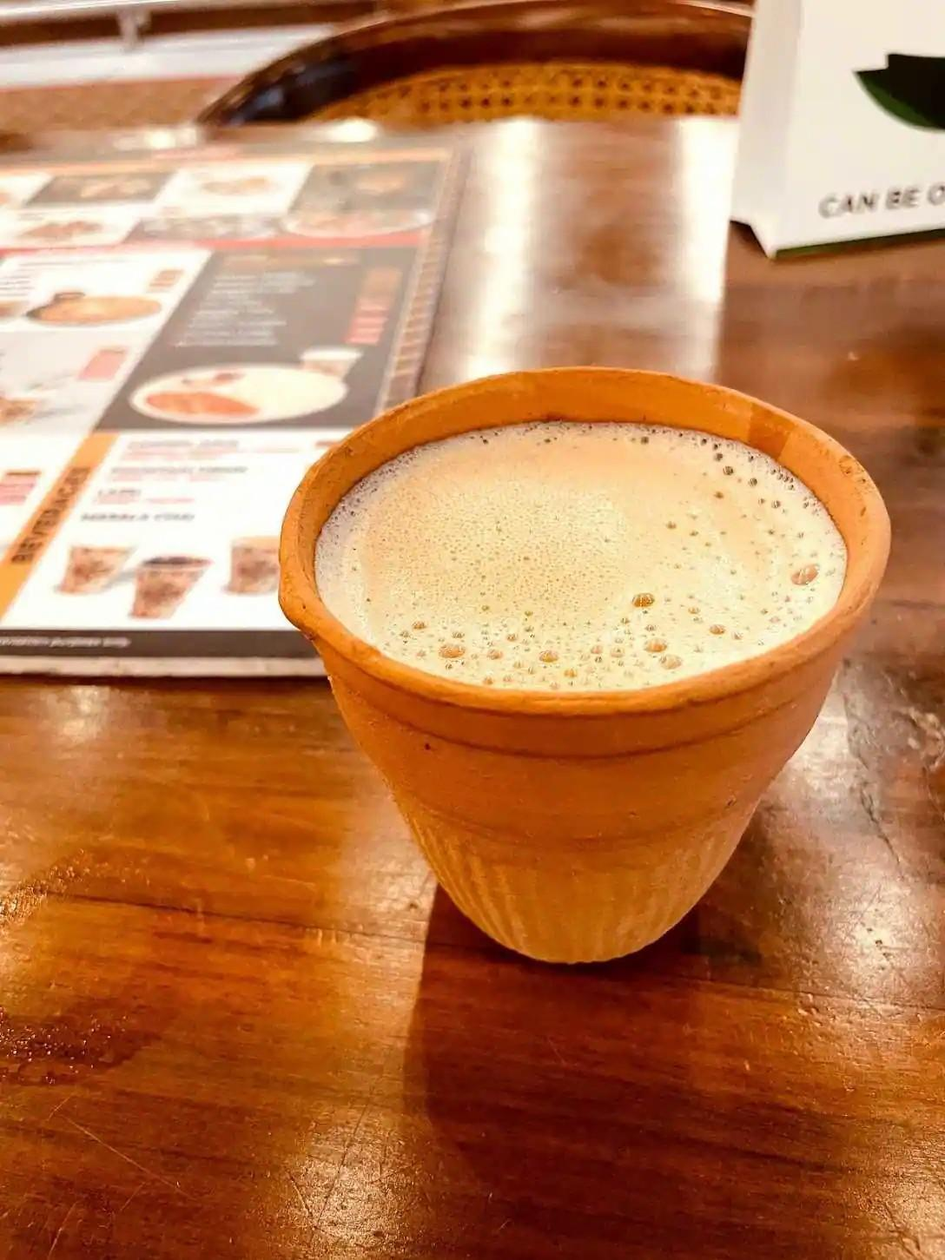Chai: (319, 424, 849, 689)
